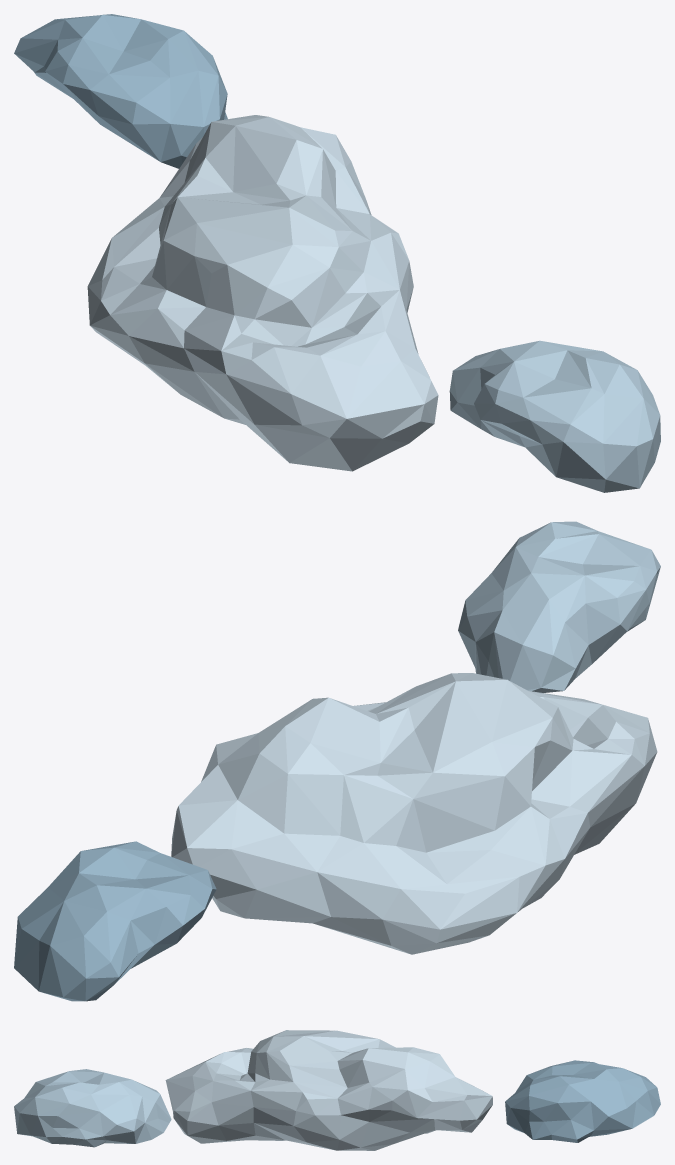
File: Cloud_02.fbx
3 renders of one model, top to bottom at view 1: azimuth 30°, elevation 25°; view 2: azimuth 150°, elevation 25°; view 3: azimuth 270°, elevation 25°, orthographic. The views are drawn at different scales.
Visible parts, largest first — view 1: Cloud_02; view 2: Cloud_02; view 3: Cloud_02.
Boxes of the visible parts, <box> form: Cloud_02: <box>14,14,660,492</box>; Cloud_02: <box>14,521,660,1001</box>; Cloud_02: <box>14,1030,660,1150</box>.
Bounding box in the file's own units: 13.65 × 8.94 × 45.42.
